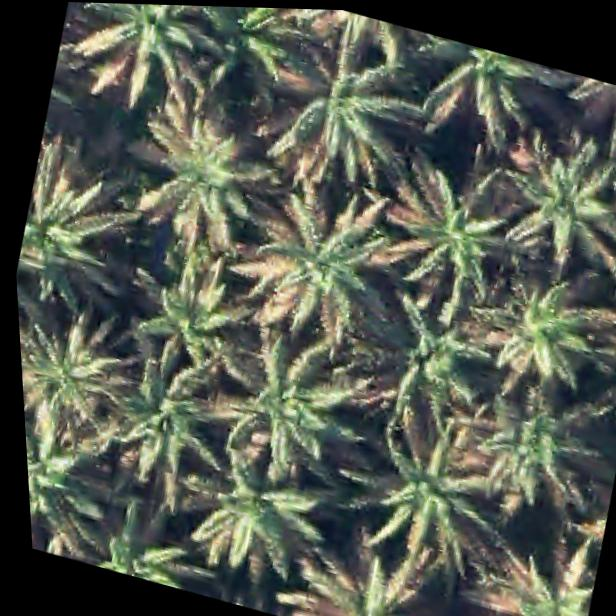oilpalm: (231, 7, 436, 207), (97, 88, 298, 285), (353, 135, 550, 330), (217, 171, 414, 363), (184, 313, 370, 492), (330, 410, 514, 575), (156, 436, 332, 603), (437, 373, 606, 541), (337, 277, 500, 443), (74, 342, 233, 507), (456, 249, 616, 411), (93, 236, 257, 386), (8, 142, 146, 320), (480, 110, 616, 282), (52, 2, 257, 110), (23, 385, 133, 567), (18, 296, 134, 452), (456, 514, 607, 616), (279, 539, 456, 616)
